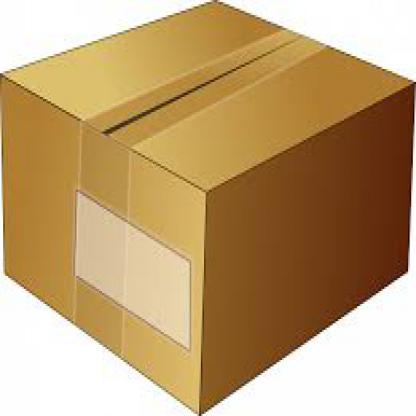paquete: (11, 69, 413, 405)
